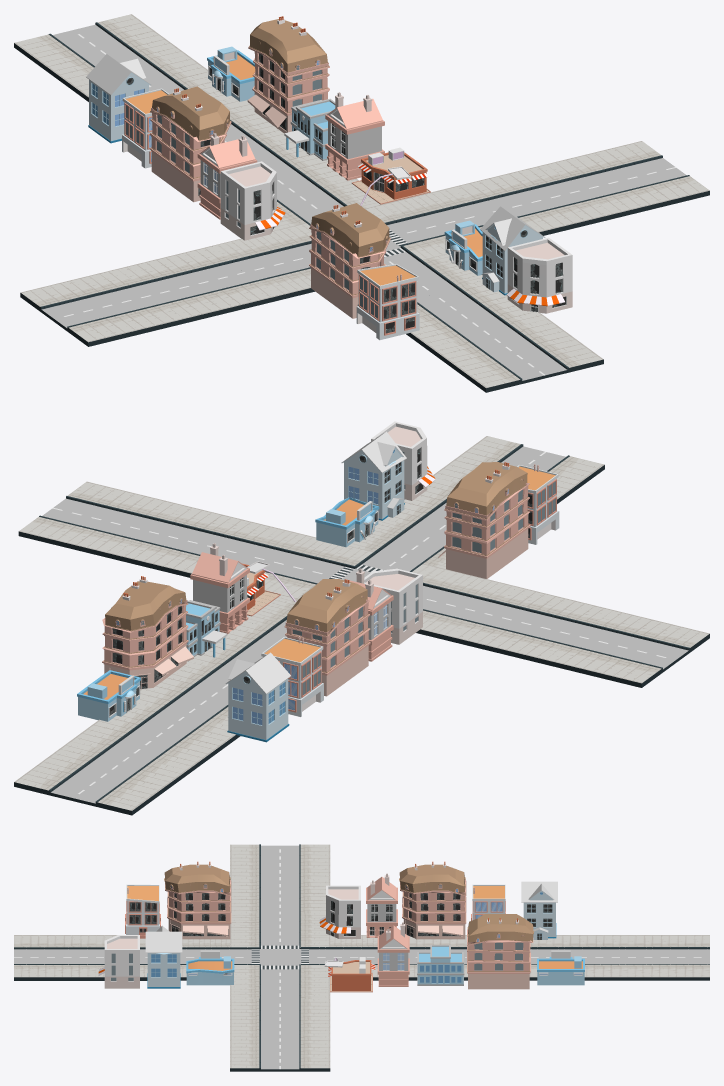
The model's file is Level4.fbx.
3 renders of one model, top to bottom at view 1: azimuth 30°, elevation 25°; view 2: azimuth 150°, elevation 25°; view 3: azimuth 270°, elevation 25°, orthographic. The views are drawn at different scales.
Parts seen in each view (by area): view 1: road_part.001, road_part.002, road_part.008, road_part.011, road_part.009, SM_elite_building_01_A.005, SM_elite_building_01_A.007, road_part.010, road_part.006, SM_elite_building_01_A.001, road_part.004, SM_cafe_01_A.001 (+14 smaller); view 2: road_part.001, SM_elite_building_01_A.007, SM_elite_building_01_A.005, road_part.006, road_part.008, road_part.011, road_part.009, SM_elite_building_01_A.001, road_part.007, road_part.010, SM_Guildhall_01_B.003, road_part.002 (+14 smaller); view 3: road_part.001, SM_elite_building_01_A.005, SM_elite_building_01_A.001, SM_elite_building_01_A.007, road_part.011, road_part.002, road_part.006, road_part.008, road_part.010, road_part.009, road_part.007, SM_Guildhall_01_B.001 (+14 smaller).
Boxes of the visible parts, <box> form: road_part.001: <box>211,178,489,300</box>; road_part.002: <box>430,319,603,392</box>; road_part.008: <box>20,269,184,346</box>; road_part.011: <box>546,141,709,218</box>; road_part.009: <box>117,246,278,323</box>; SM_elite_building_01_A.005: <box>247,16,329,133</box>; SM_elite_building_01_A.007: <box>309,203,390,318</box>; road_part.010: <box>450,164,613,235</box>; road_part.006: <box>14,14,186,87</box>; SM_elite_building_01_A.001: <box>149,86,231,202</box>; road_part.004: <box>406,280,547,351</box>; SM_cafe_01_A.001: <box>506,237,572,313</box>; road_part.001: <box>238,519,518,640</box>; SM_elite_building_01_A.007: <box>438,462,530,578</box>; SM_elite_building_01_A.005: <box>102,576,193,689</box>; road_part.006: <box>14,741,187,815</box>; road_part.008: <box>545,610,709,687</box>; road_part.011: <box>18,481,182,559</box>; road_part.009: <box>448,587,612,664</box>; SM_elite_building_01_A.001: <box>284,579,370,696</box>; road_part.007: <box>70,703,240,774</box>; road_part.010: <box>115,505,278,577</box>; SM_Guildhall_01_B.003: <box>225,652,290,742</box>; road_part.002: <box>433,436,604,503</box>; road_part.001: <box>180,913,378,1000</box>; SM_elite_building_01_A.005: <box>467,914,534,989</box>; SM_elite_building_01_A.001: <box>399,861,466,939</box>; SM_elite_building_01_A.007: <box>164,861,231,939</box>; road_part.011: <box>230,1033,330,1071</box>; road_part.002: <box>14,935,95,980</box>; road_part.006: <box>628,935,709,980</box>; road_part.008: <box>230,844,330,880</box>; road_part.010: <box>230,999,330,1034</box>; road_part.009: <box>230,879,330,914</box>; road_part.007: <box>546,935,627,980</box>; SM_Guildhall_01_B.001: <box>145,926,182,988</box>.
Bounding box in the file's own units: 268 × 38.98 × 353.
